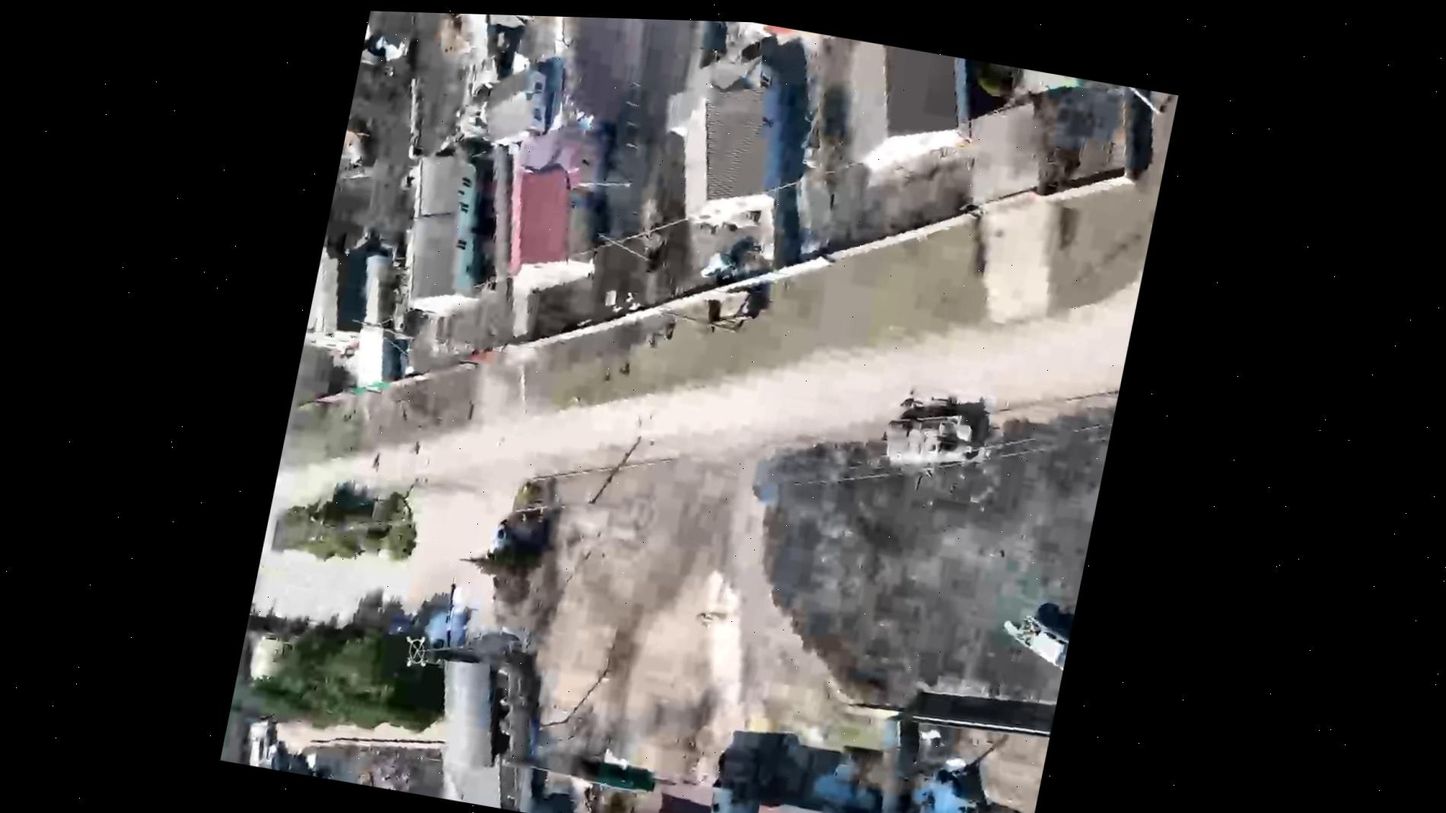car: (996, 597, 1076, 693)
tank: (876, 401, 981, 477)
